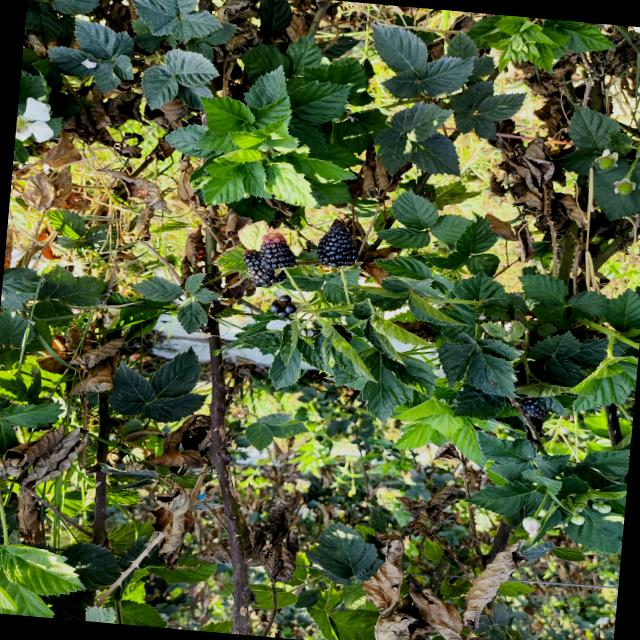boton: (592, 502, 611, 513), (570, 514, 584, 525)
flor: (15, 97, 53, 141)
maduro: (317, 219, 358, 267), (243, 249, 286, 288), (521, 397, 546, 419)
marron: (259, 233, 295, 271)
